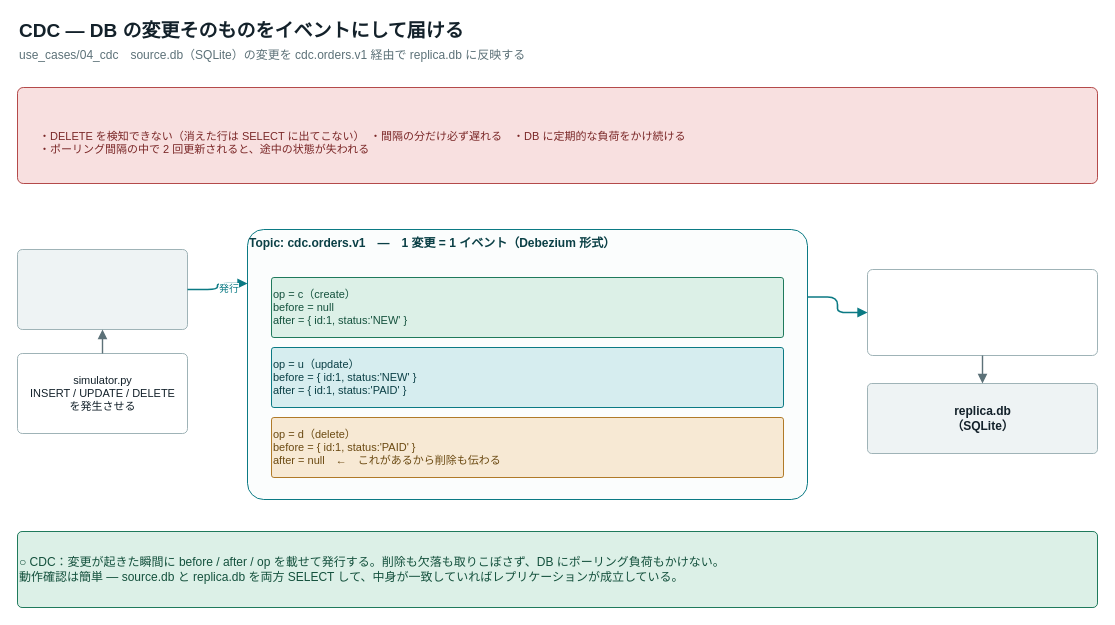
Some shapes in this 1115 by 625 pixel diagram are drawn without their labels. Each missing label, with the box of its shape:
cdc_consumer.py op を見て INSERT / UPDATE / DELETE を適用: (866, 268, 1098, 356)
source.db （SQLite）: (16, 248, 188, 330)
× ポーリング方式：SELECT * WHERE updated_at > ? を定期実行: (16, 86, 1098, 184)
